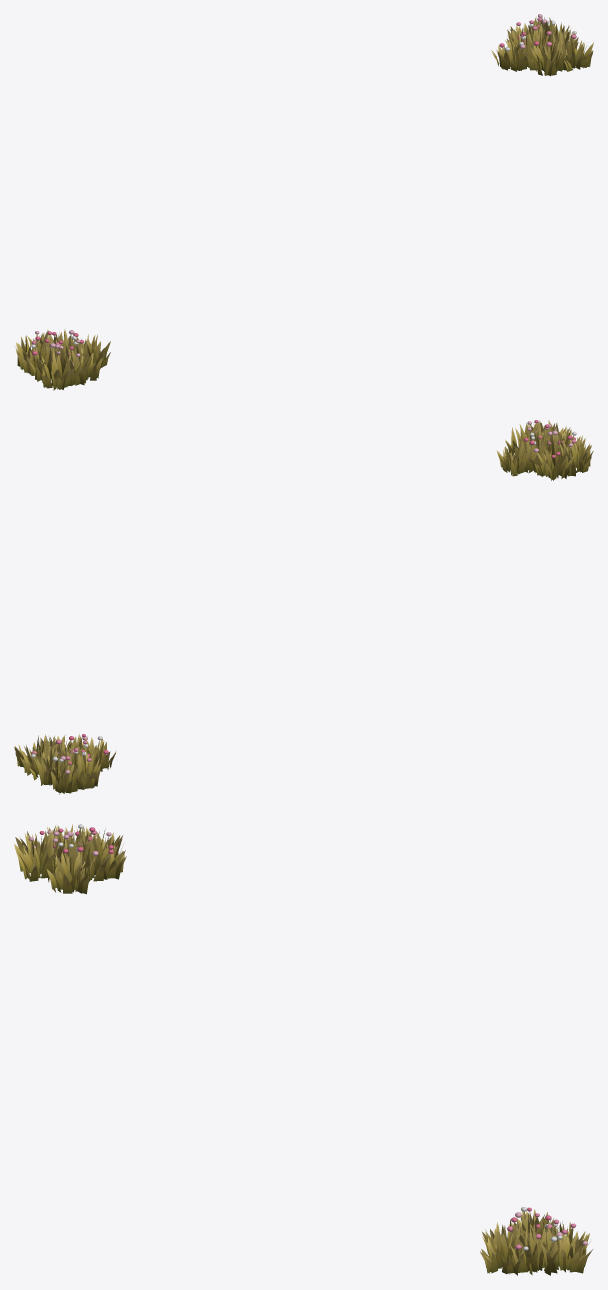
Rendered from skybridge_grass.glb.
3 renders of one model, top to bottom at view 1: azimuth 30°, elevation 25°; view 2: azimuth 210°, elevation 25°; view 3: azimuth 270°, elevation 25°, orthographic. The views are drawn at different scales.
Parts seen in each view (by area): view 1: Grass_2_20, Grass_32_5, Grass_3_20, Grass_33_5, Grass_31_4, Grass_2_19, Grass_32_4, Grass_2_18, Grass_4_19, Grass_3_19; view 2: Grass_3_18, Grass_33_3, Grass_4_19, Grass_2_18, Grass_32_3, Grass_33_4, Grass_3_19, Grass_33_5, Grass_31_4, Grass_3_20; view 3: Grass_33_4, Grass_3_20, Grass_4_19, Grass_33_5, Grass_33_3, Grass_3_18, Grass_3_19.
Part boxes in pixels (box(x1,y1,x2,y2)): Grass_2_20: box(38, 340, 80, 390); Grass_32_5: box(527, 33, 567, 76); Grass_3_20: box(58, 344, 102, 385); Grass_33_5: box(552, 29, 593, 71); Grass_31_4: box(491, 33, 538, 71); Grass_2_19: box(22, 338, 62, 381); Grass_32_4: box(513, 20, 552, 67); Grass_2_18: box(15, 330, 49, 369); Grass_4_19: box(68, 334, 110, 367); Grass_3_19: box(46, 329, 87, 362); Grass_3_18: box(529, 436, 580, 480); Grass_33_3: box(39, 749, 79, 794); Grass_4_19: box(496, 439, 541, 476); Grass_2_18: box(557, 435, 593, 476); Grass_32_3: box(63, 749, 102, 789); Grass_33_4: box(29, 738, 60, 785); Grass_3_19: box(520, 425, 561, 472); Grass_33_5: box(14, 734, 55, 775); Grass_31_4: box(69, 736, 116, 771); Grass_3_20: box(505, 420, 549, 457); Grass_33_4: box(510, 1225, 558, 1275); Grass_3_20: box(14, 830, 61, 882); Grass_4_19: box(47, 847, 95, 894); Grass_33_5: box(480, 1224, 524, 1275); Grass_33_3: box(541, 1227, 592, 1273); Grass_3_18: box(79, 835, 126, 881); Grass_3_19: box(50, 831, 91, 881).
Size of the model in its own units: 16.33 by 0.6989 by 9.35.
